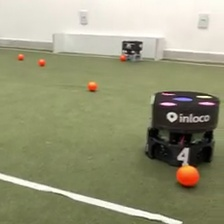ball: (175, 163, 200, 188), (87, 79, 98, 91), (37, 56, 46, 65), (120, 53, 127, 61), (17, 52, 24, 60)
goal: (51, 30, 166, 62)
robot: (142, 88, 222, 168), (120, 38, 144, 63)
